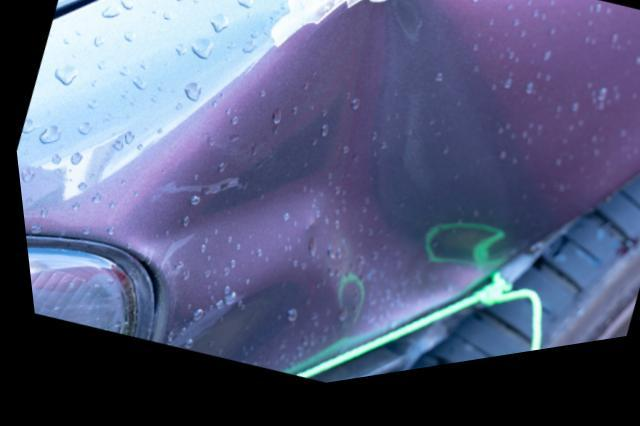dent: (123, 3, 523, 381)
